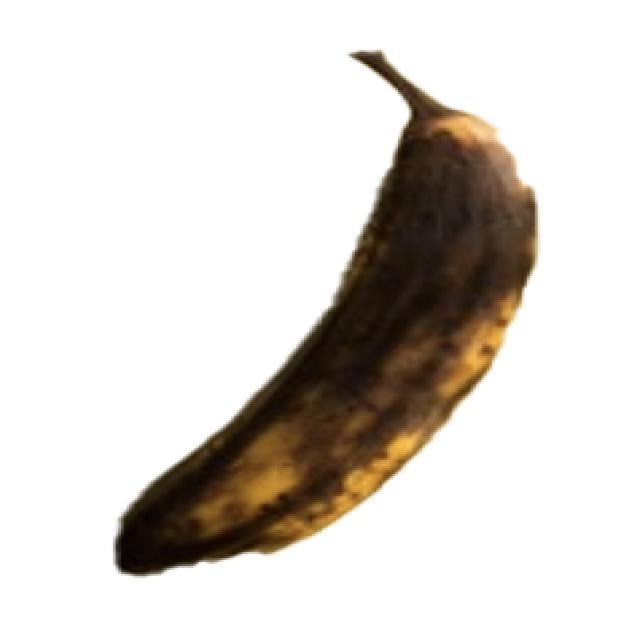rotten-banana: (110, 46, 538, 576)
